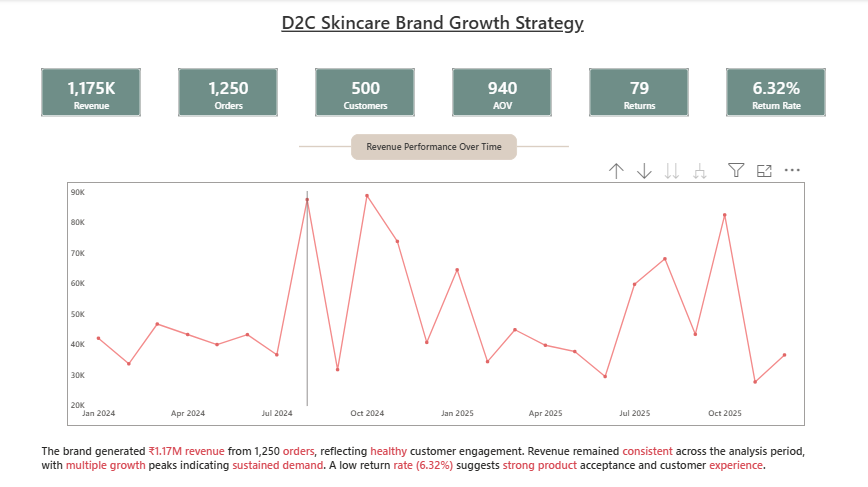

The page's visual inventory and layout, read from the dashboard file:
{"tool":"powerbi","page":{"name":"Overview ","canvas":[1280,720],"ordinal":0},"visuals":[{"type":"textbox","box":[408,10.2,463.9,51.2],"z":0},{"type":"cardVisual","fields":{"Data":["1  Customers.Total Revenue"]},"box":[57.1,96.6,155.1,80.5],"z":1000},{"type":"cardVisual","fields":{"Data":["1  Customers.Average Order Value"]},"box":[658.5,96.6,155.1,80.5],"z":2000},{"type":"cardVisual","fields":{"Data":["1  Customers.Total order"]},"box":[257.6,96.6,155.1,80.5],"z":3000},{"type":"cardVisual","fields":{"Data":["1  Customers.Total customers"]},"box":[458,96.6,155.1,80.5],"z":4000},{"type":"cardVisual","fields":{"Data":["1  Customers.Total returns"]},"box":[859,96.6,155.1,80.5],"z":5000},{"type":"cardVisual","fields":{"Data":["1  Customers.Return Rate"]},"box":[1059.5,96.6,155.1,80.5],"z":6000},{"type":"textbox","box":[515.1,197.6,242.9,38],"z":7000},{"type":"shape","box":[439,163.9,76.1,103.9],"z":8000},{"type":"shape","box":[758,163.9,76.1,103.9],"z":9000},{"type":"textbox","box":[57.1,645.4,1157.6,62.9],"z":10000},{"type":"lineChart","fields":{"Category":["3  Orders.order_date.Variation.Date Hierarchy.Year","3  Orders.order_date.Variation.Date Hierarchy.Month"],"Y":["1  Customers.Total Revenue"]},"box":[99.5,267.8,1080,357.1],"z":11000}]}

Visuals, with their boxes in screenshot pixels (x1, y1, x2, y2), scaled from the page's 1280x720 canvas onto the 868x487 screenshot:
textbox: {"x1": 277, "y1": 7, "x2": 591, "y2": 42}
cardVisual - 1  Customers.Total Revenue: {"x1": 39, "y1": 65, "x2": 144, "y2": 120}
cardVisual - 1  Customers.Average Order Value: {"x1": 447, "y1": 65, "x2": 552, "y2": 120}
cardVisual - 1  Customers.Total order: {"x1": 175, "y1": 65, "x2": 280, "y2": 120}
cardVisual - 1  Customers.Total customers: {"x1": 311, "y1": 65, "x2": 416, "y2": 120}
cardVisual - 1  Customers.Total returns: {"x1": 583, "y1": 65, "x2": 688, "y2": 120}
cardVisual - 1  Customers.Return Rate: {"x1": 718, "y1": 65, "x2": 824, "y2": 120}
textbox: {"x1": 349, "y1": 134, "x2": 514, "y2": 159}
shape: {"x1": 298, "y1": 111, "x2": 349, "y2": 181}
shape: {"x1": 514, "y1": 111, "x2": 566, "y2": 181}
textbox: {"x1": 39, "y1": 437, "x2": 824, "y2": 479}
lineChart - 3  Orders.order_date.Variation.Date Hierarchy.Year x 3  Orders.order_date.Variation.Date Hierarchy.Month: {"x1": 67, "y1": 181, "x2": 800, "y2": 423}
